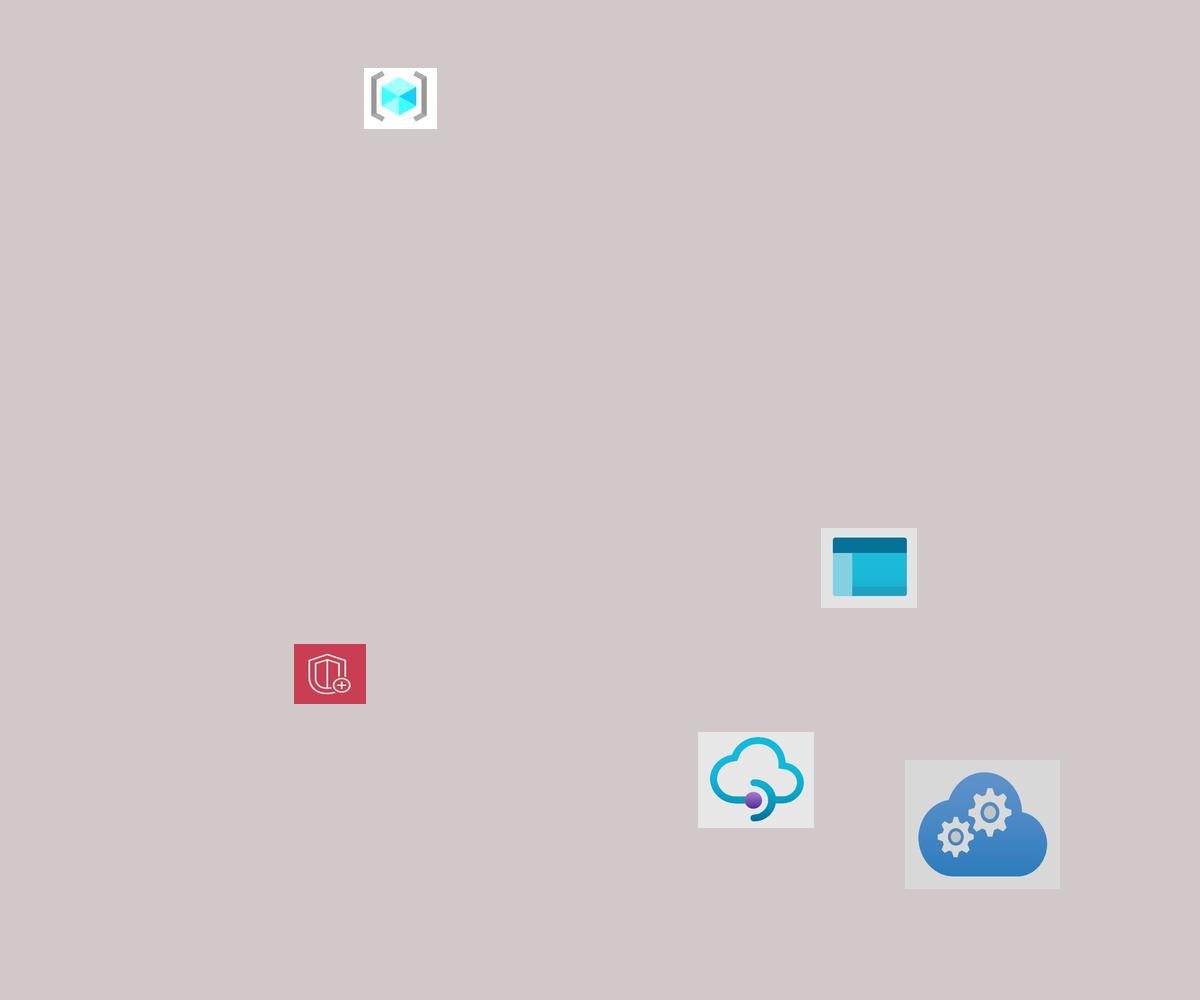AWS-Shield: (294, 644, 366, 704)
Azure_api_gateway: (698, 732, 814, 828)
Azure_cloud_services: (905, 760, 1060, 889)
Azure_management-portal: (821, 528, 917, 608)
Azure_resource_group: (364, 68, 437, 129)
